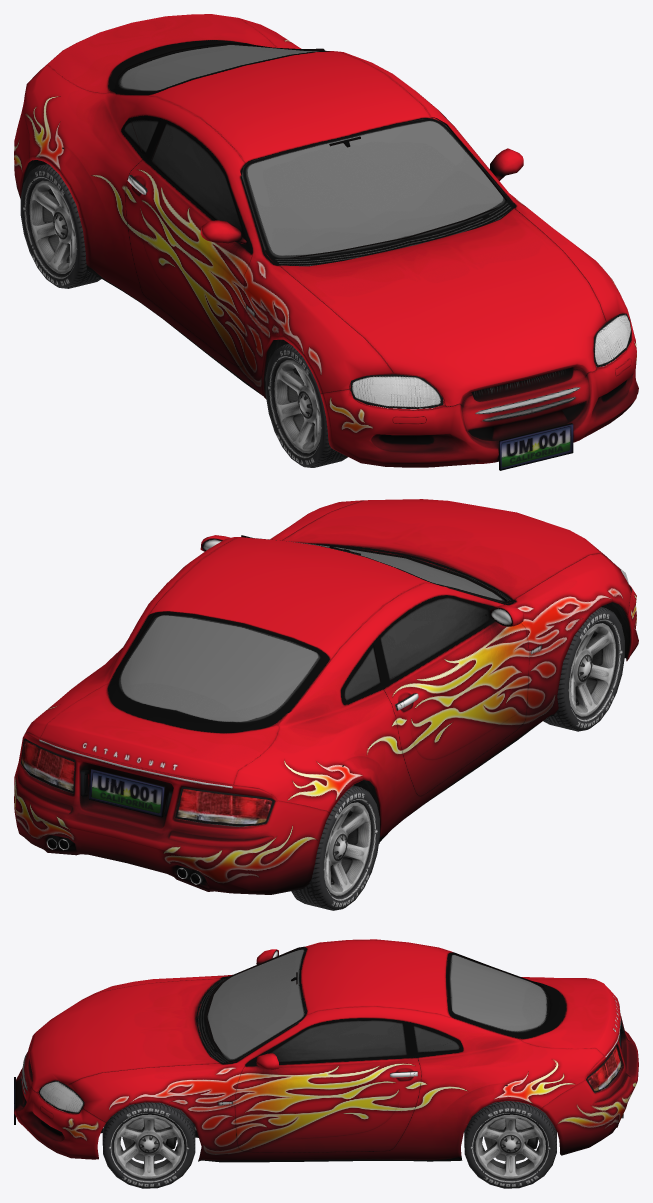
The model's file is catamount.fbx.
The picture shows the model from 3 angles, top to bottom: view 1: azimuth 30°, elevation 25°; view 2: azimuth 150°, elevation 25°; view 3: azimuth 270°, elevation 25°; orthographic projection. The views are drawn at different scales.
Parts seen in each view (by area): view 1: Body, Car_Glass, WheelRR.2, WheelFR.2, Bottom-Interior; view 2: Body, Car_Glass, WheelRR.2, WheelFR.2, Bottom-Interior; view 3: Body, Car_Glass, WheelRL.2, WheelFL.2, Bottom-Interior, DiscBrakeFL, DiscBrakeRL.
Part boxes in pixels (x1=…): Body: x1=14, y1=14, x2=638, y2=470; Car_Glass: x1=115, y1=44, x2=631, y2=408; WheelRR.2: x1=20, y1=163, x2=101, y2=288; WheelFR.2: x1=265, y1=343, x2=347, y2=467; Bottom-Interior: x1=23, y1=42, x2=506, y2=392; Body: x1=14, y1=499, x2=638, y2=894; Car_Glass: x1=115, y1=537, x2=631, y2=724; WheelRR.2: x1=291, y1=785, x2=379, y2=910; WheelFR.2: x1=543, y1=607, x2=624, y2=731; Bottom-Interior: x1=115, y1=535, x2=629, y2=814; Body: x1=14, y1=939, x2=638, y2=1162; Car_Glass: x1=38, y1=948, x2=550, y2=1113; WheelRL.2: x1=464, y1=1101, x2=556, y2=1188; WheelFL.2: x1=102, y1=1102, x2=195, y2=1188; Bottom-Interior: x1=101, y1=946, x2=548, y2=1137; DiscBrakeFL: x1=122, y1=1118, x2=176, y2=1161; DiscBrakeRL: x1=484, y1=1118, x2=538, y2=1161.
Size of the model in its own units: 2.35 by 1.61 by 5.43.
